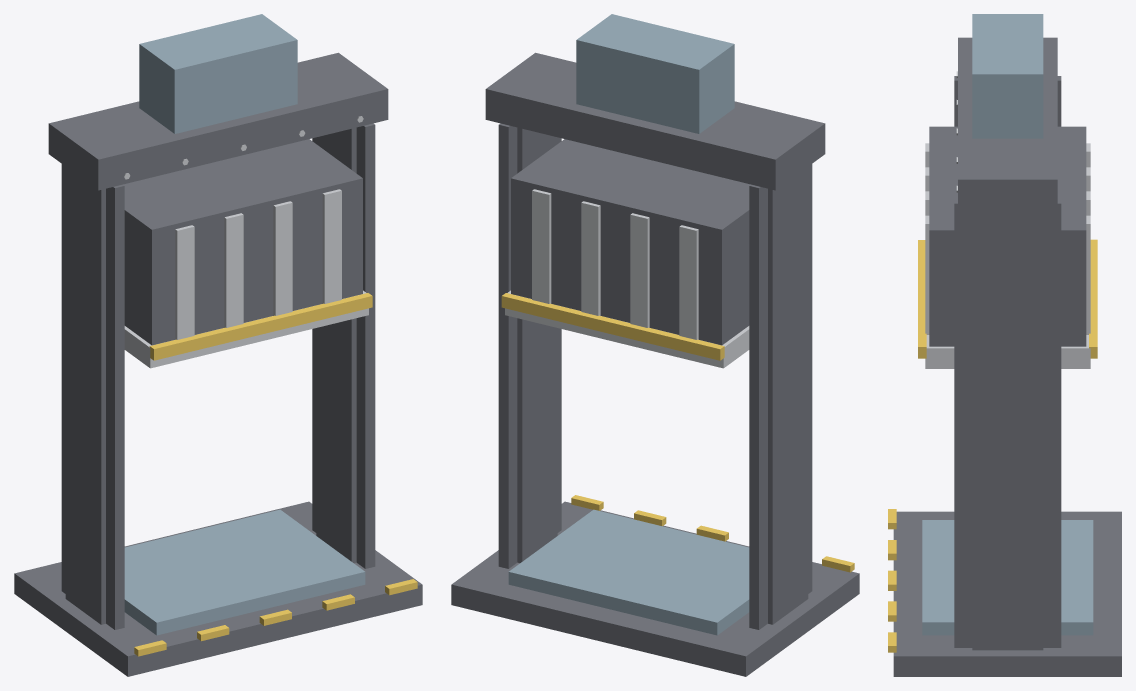
The model's file is animated-mechanisms-kit-crusher-block-2a07f4ff__24651.glb.
3 renders of one model, left to right at view 1: azimuth 30°, elevation 25°; view 2: azimuth 150°, elevation 25°; view 3: azimuth 270°, elevation 25°, orthographic.
Parts seen in each view (by area): view 1: crusher-block, block/iron, block/steel, block/accent; view 2: crusher-block, block/iron, block/steel, block/accent; view 3: crusher-block, block/iron, block/steel, block/accent.
Boxes of the visible parts, box(x1,y1,x2,y2) form: crusher-block: box(14, 14, 422, 676); block/iron: box(123, 139, 362, 345); block/steel: box(124, 189, 368, 368); block/accent: box(149, 293, 372, 360); crusher-block: box(451, 14, 859, 676); block/iron: box(511, 139, 750, 345); block/steel: box(505, 189, 749, 368); block/accent: box(501, 293, 724, 360); crusher-block: box(888, 14, 1121, 676); block/iron: box(929, 126, 1086, 346); block/steel: box(925, 143, 1090, 368); block/accent: box(918, 239, 1097, 358).
Size of the model in its own units: 2.4 by 4.34 by 1.64.
